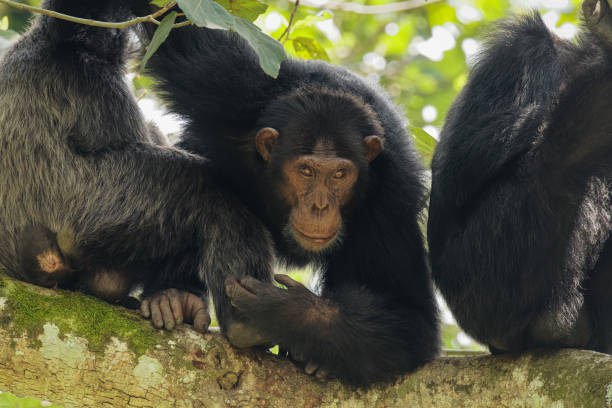chimpanzee: (250, 90, 395, 276)
